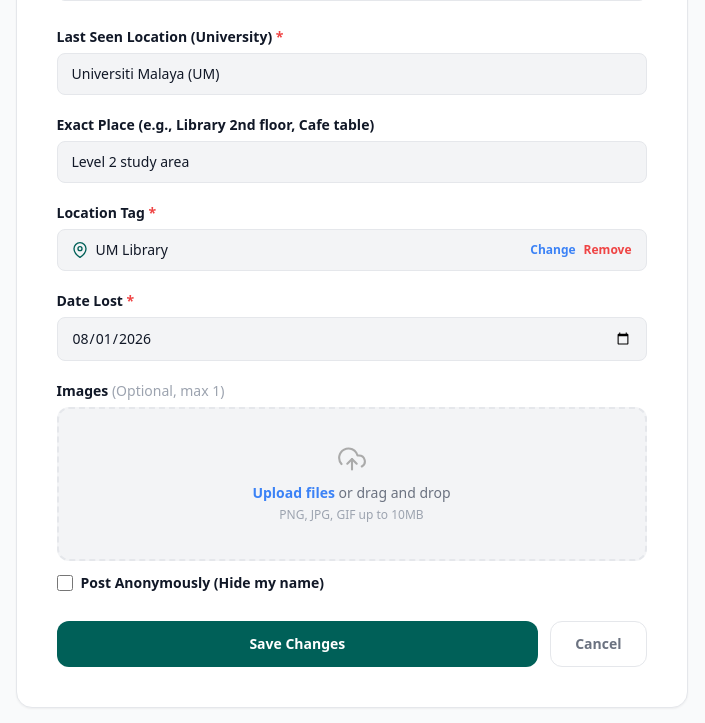
it: ReportLostItemPage — edit mode › shows a validation error when the date is cleared
(page scrolled)
Clear the date field showing "2026-08-01": {"x": 352, "y": 339} [56,317,646,361]
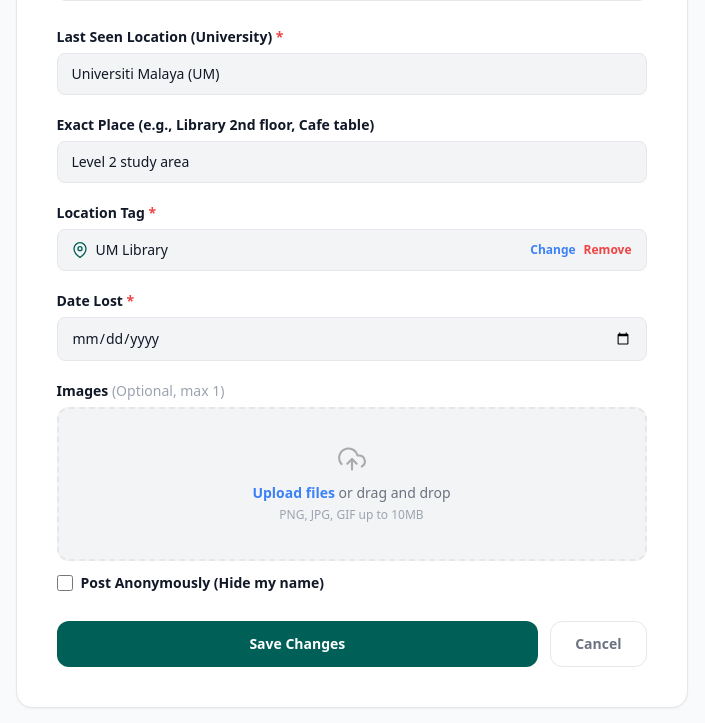
Click the button "Save Changes": {"x": 297, "y": 644} [56,621,538,667]
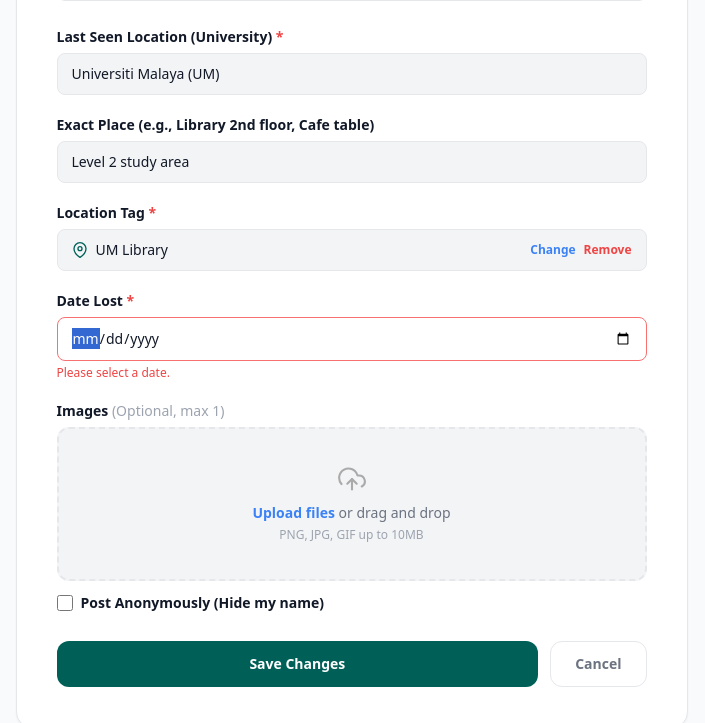
Result: the text "Please select a date." is shown at [56,364,170,381]
